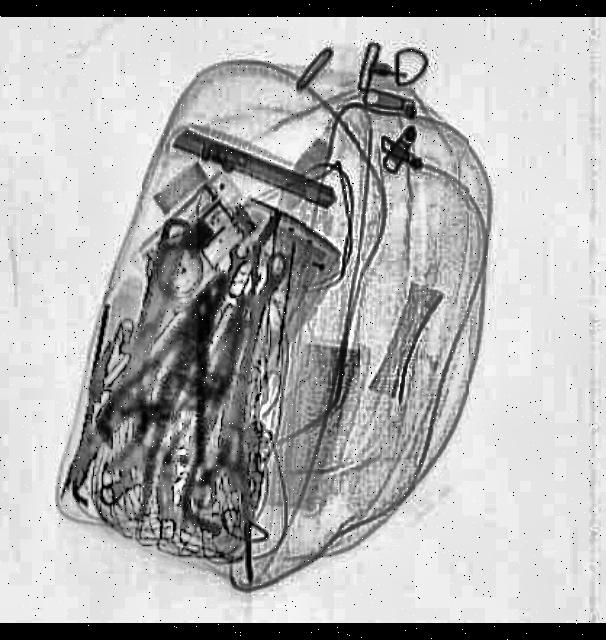Pliers: (44, 323, 172, 505)
Wrench: (88, 209, 208, 459), (215, 240, 255, 296)
